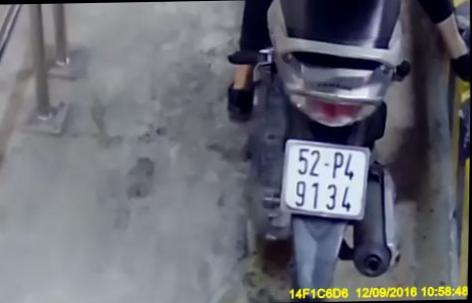LP: (281, 136, 373, 223)
